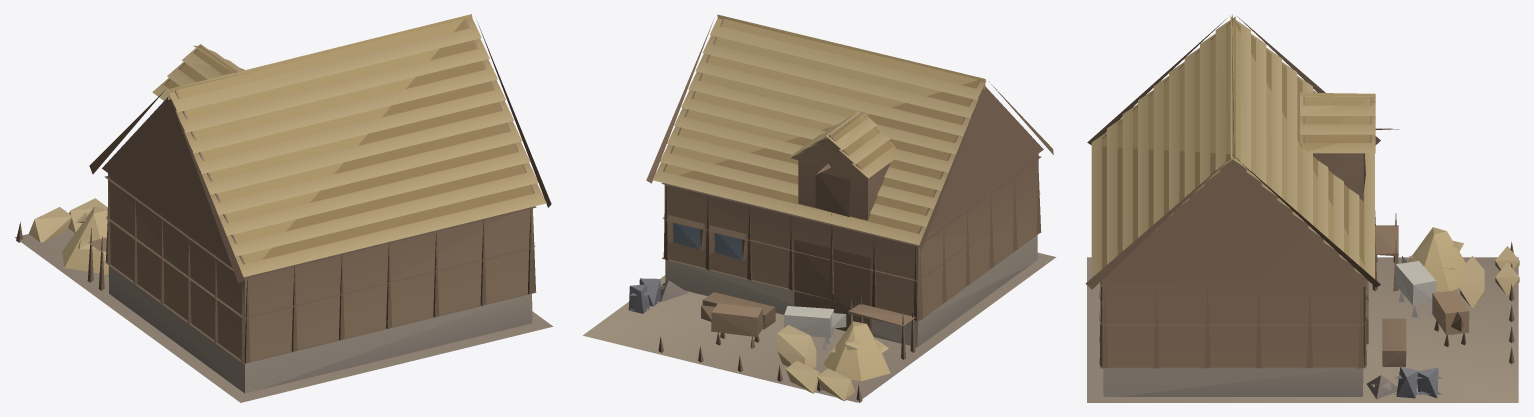
The model's file is cattle_farm.lite.glb.
3 views of the same model, side by side, from view 1: azimuth 30°, elevation 25°; view 2: azimuth 150°, elevation 25°; view 3: azimuth 270°, elevation 25° (orthographic). The views are drawn at different scales.
Parts seen in each view (by area): view 1: cattle_farm; view 2: cattle_farm; view 3: cattle_farm.
Part boxes in pixels (box(x1,y1,x2,y2)): cattle_farm: box(15, 14, 552, 402); cattle_farm: box(583, 14, 1056, 402); cattle_farm: box(1085, 14, 1519, 402).
Size of the model in its own units: 3.97 by 3.13 by 4.99.
